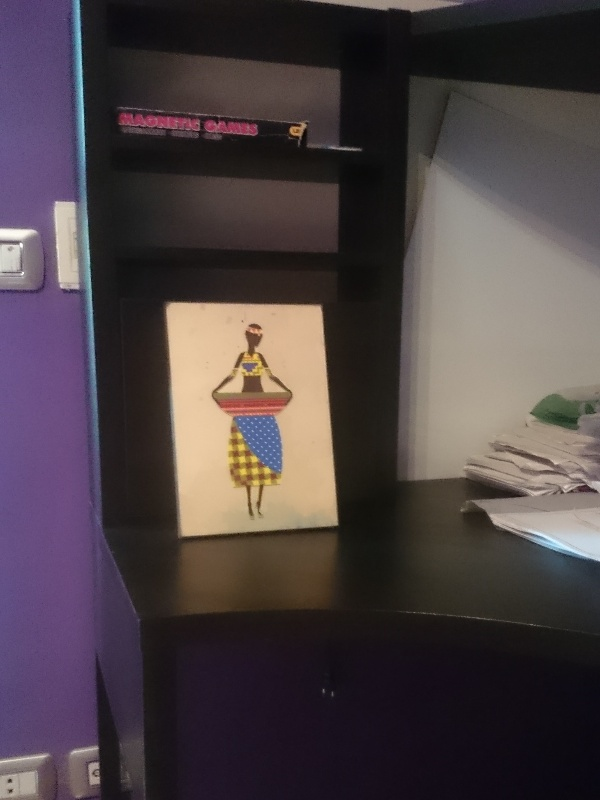my image: (167, 303, 336, 537)
